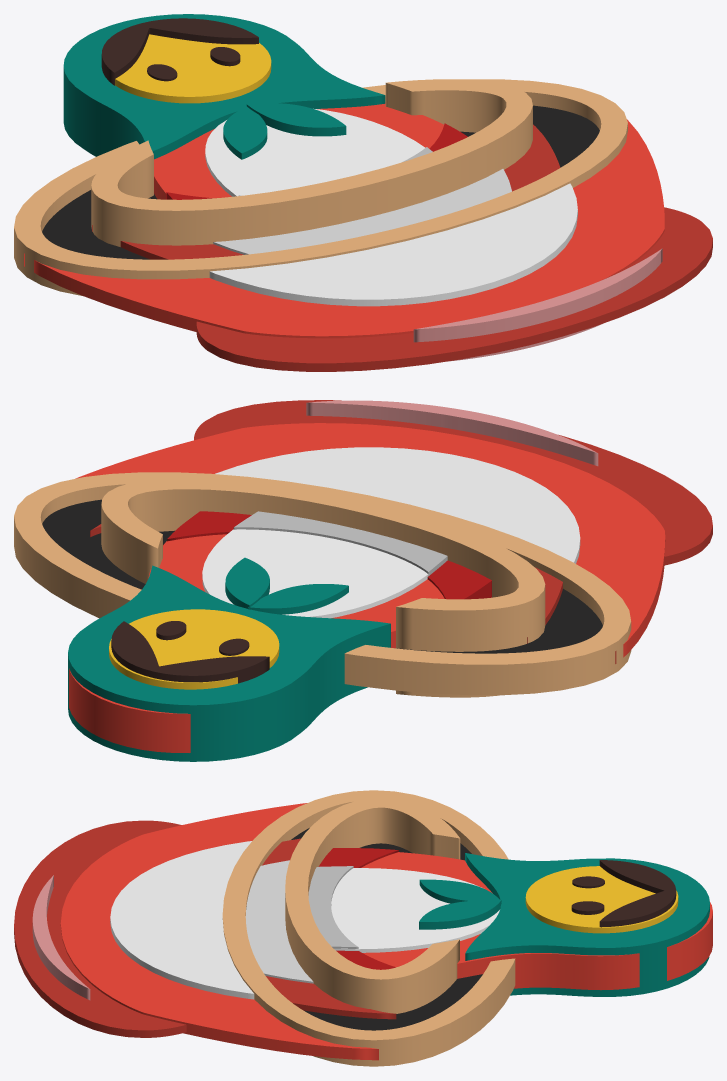
The model's file is emoji_u1fa86.glb.
3 renders of one model, top to bottom at view 1: azimuth 30°, elevation 25°; view 2: azimuth 150°, elevation 25°; view 3: azimuth 270°, elevation 25°, orthographic. The views are drawn at different scales.
Parts seen in each view (by area): view 1: emoji_u1fa86; view 2: emoji_u1fa86; view 3: emoji_u1fa86.
Part boxes in pixels (x1,y1,x2,y2): emoji_u1fa86: (14, 14, 712, 371); emoji_u1fa86: (14, 400, 712, 761); emoji_u1fa86: (14, 790, 712, 1066).
Size of the model in its own units: 0.0286 by 0.004 by 0.0336.
